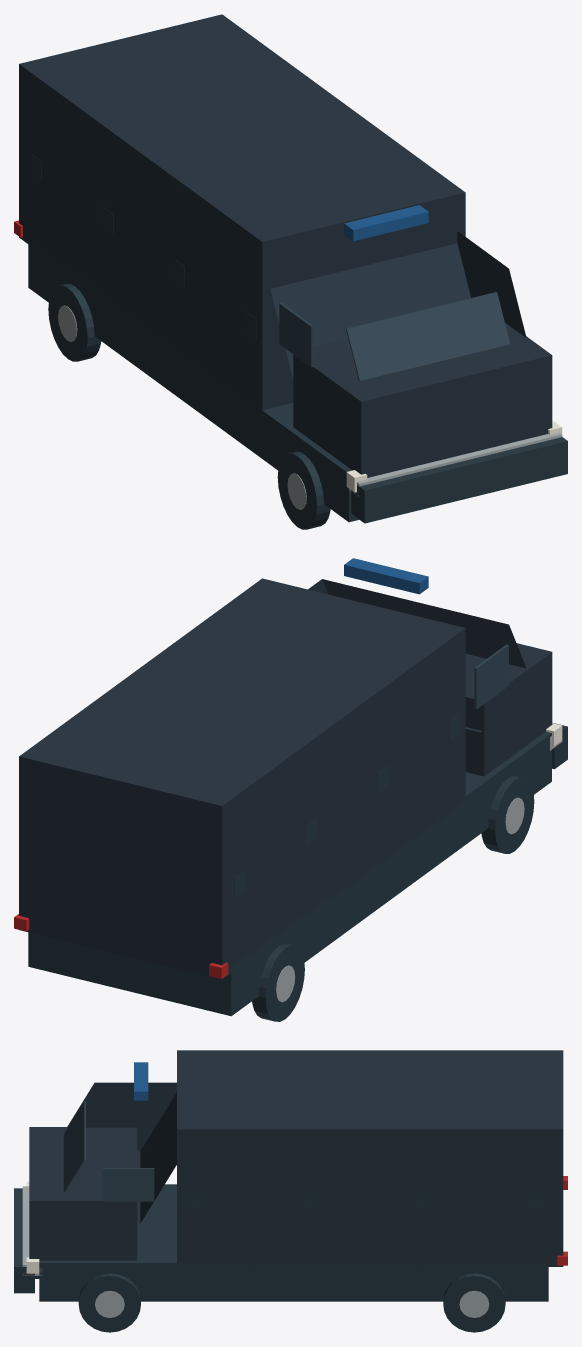
File: scendance-plan-swat-police-vehicle.glb
3 views of the same model, one above another, from view 1: azimuth 30°, elevation 25°; view 2: azimuth 150°, elevation 25°; view 3: azimuth 270°, elevation 25° (orthographic). The views are drawn at different scales.
Bounding box in the file's own units: 2.63 × 3.1 × 7.28.
